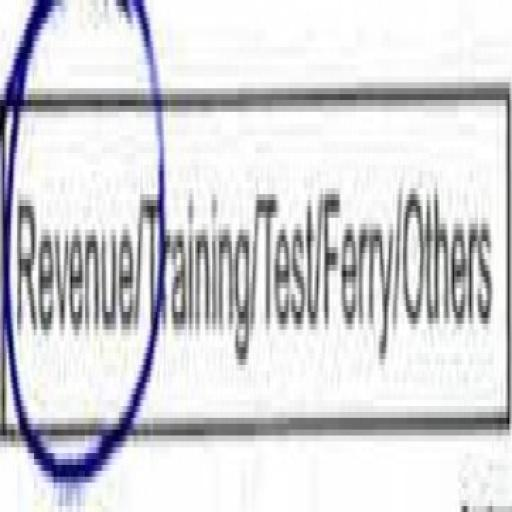check: (0, 14, 137, 512)
